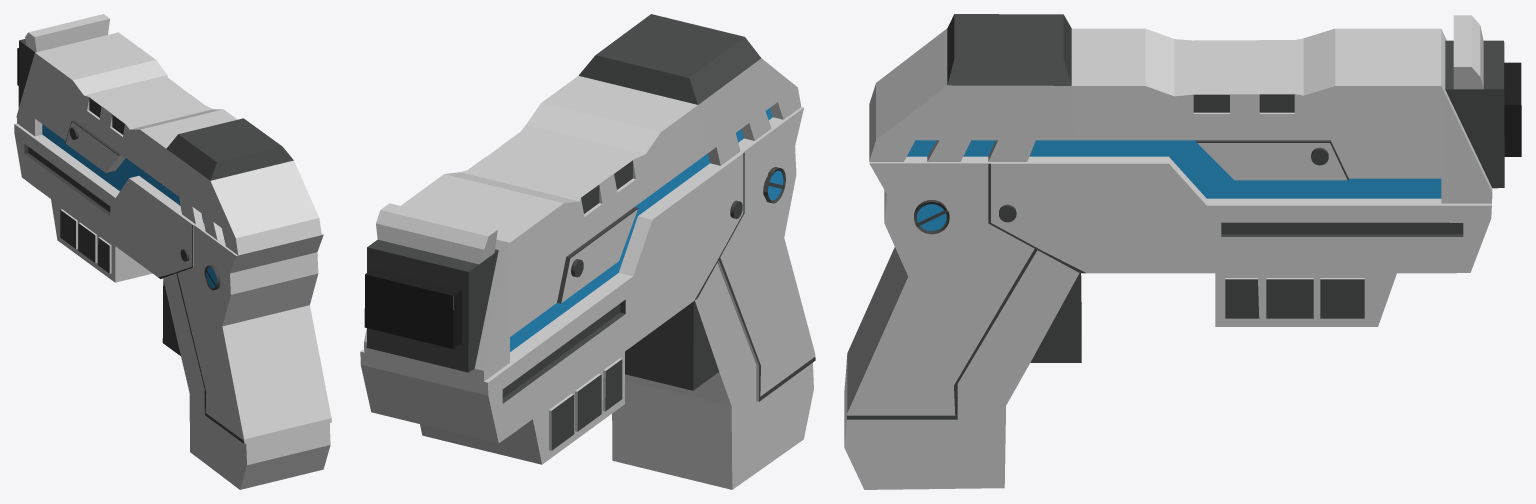
File: handGun.fbx
The picture shows the model from 3 angles, left to right: view 1: azimuth 30°, elevation 25°; view 2: azimuth 150°, elevation 25°; view 3: azimuth 270°, elevation 25°; orthographic projection. The views are drawn at different scales.
Parts seen in each view (by area): view 1: Plane; view 2: Plane; view 3: Plane.
Boxes of the visible parts, <box> form: Plane: <box>14,14,331,489</box>; Plane: <box>360,14,815,489</box>; Plane: <box>844,14,1521,489</box>.
Size of the model in its own units: 15.57 by 47.75 by 68.97.
